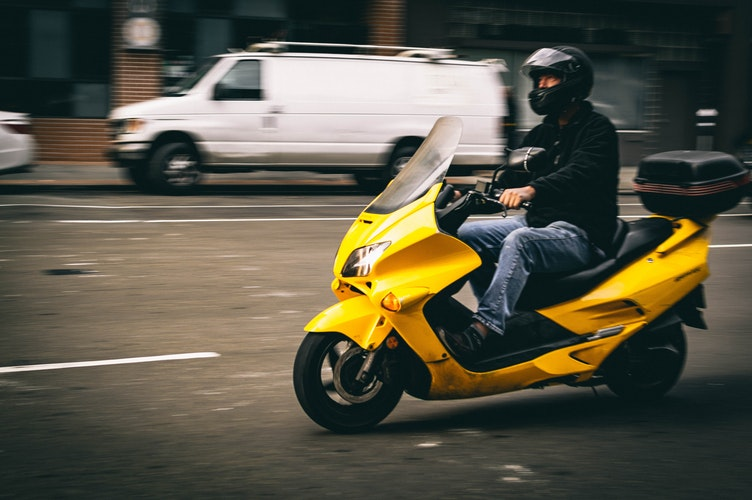helmet: (522, 47, 589, 110)
